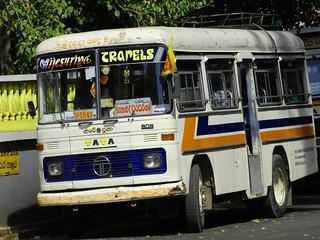bus: (32, 22, 315, 226)
